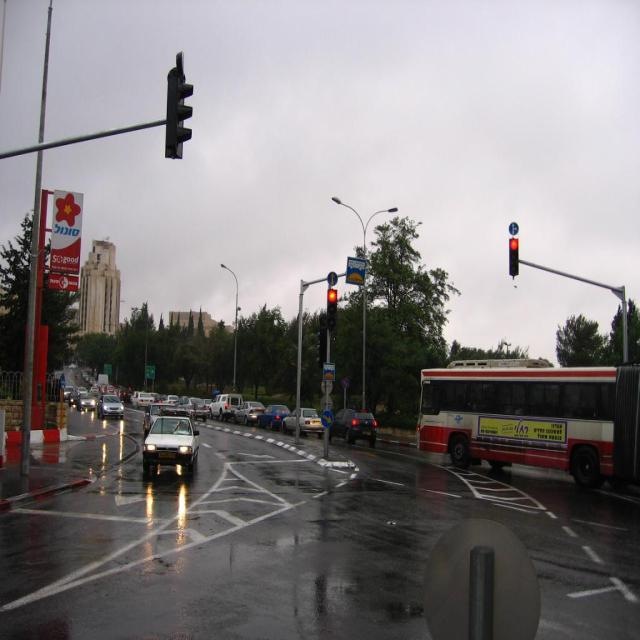off traffic light: (164, 49, 193, 161)
traffic light: (509, 234, 519, 277), (327, 290, 337, 331)
